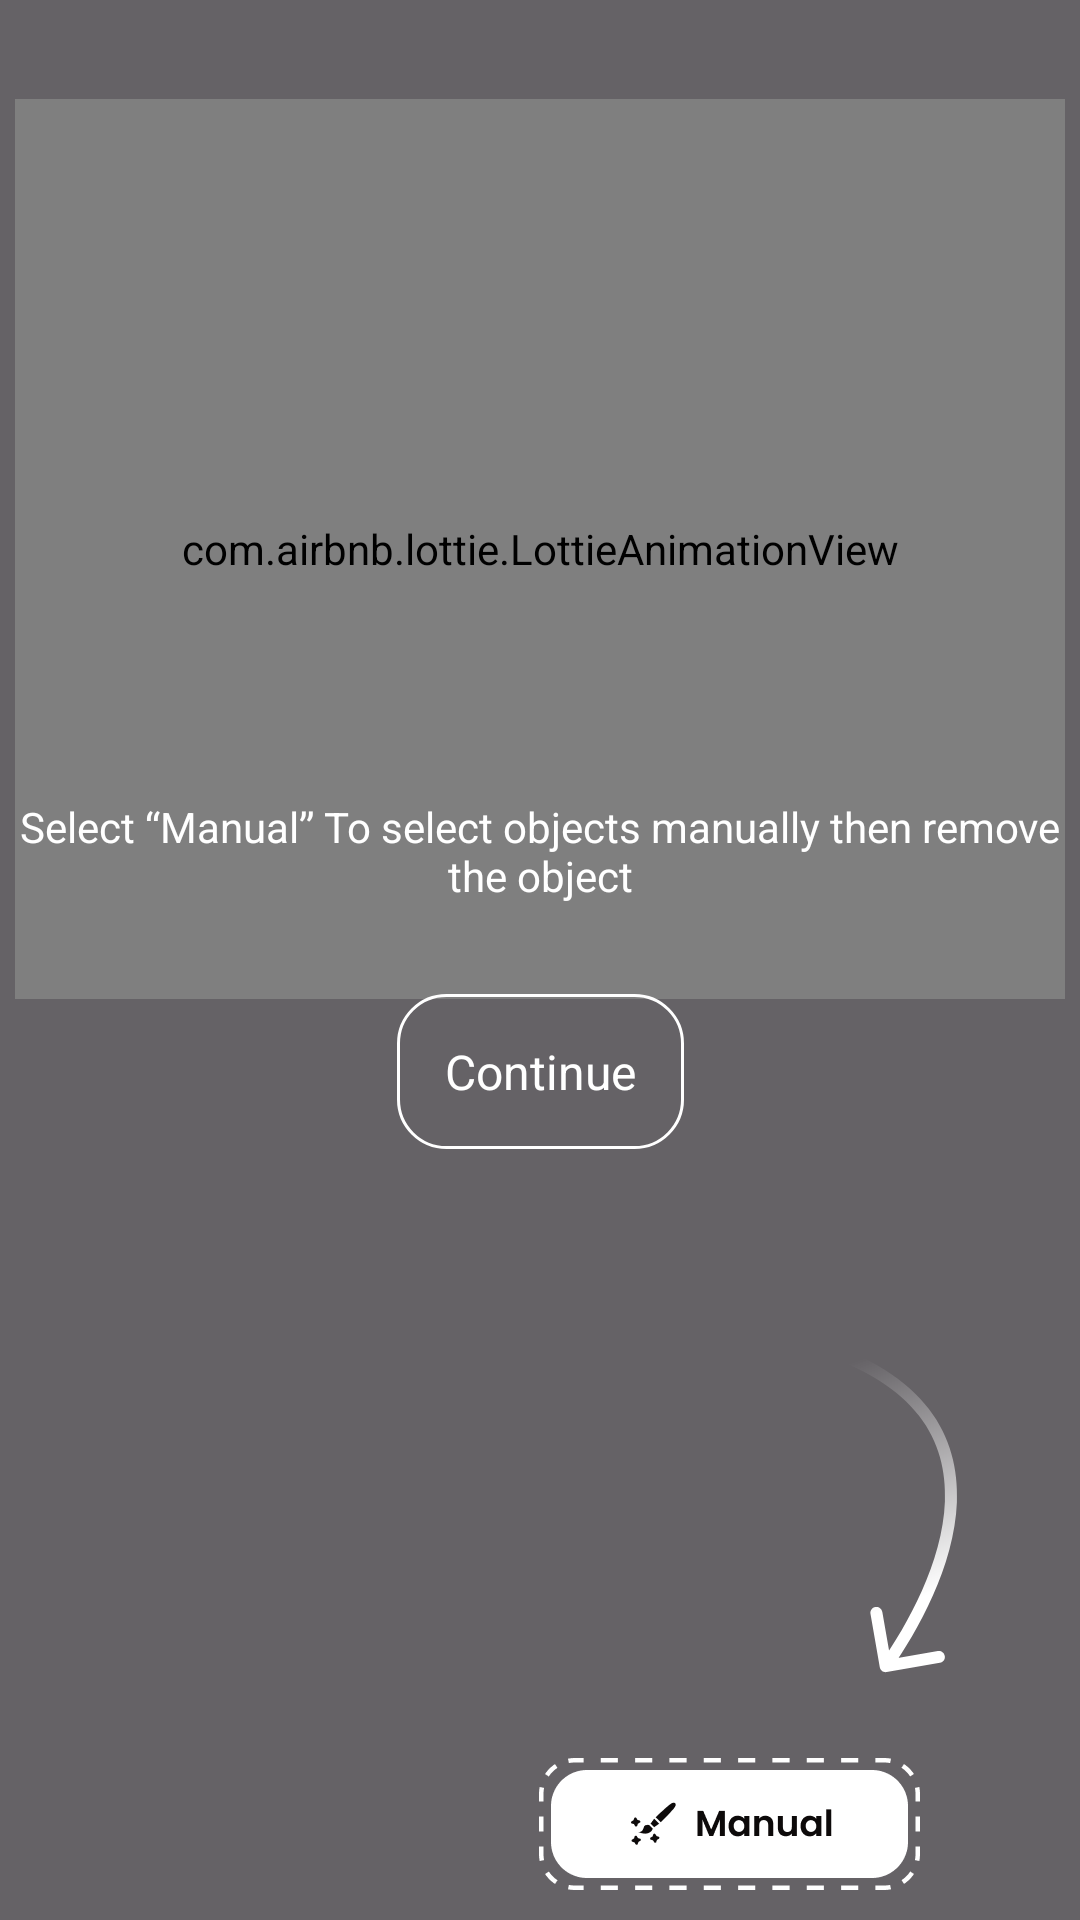

Point at icon controls on the screen. Image size 1080 × 1920, points as point (x, y).
arrow turorial left: point (913, 1528)
